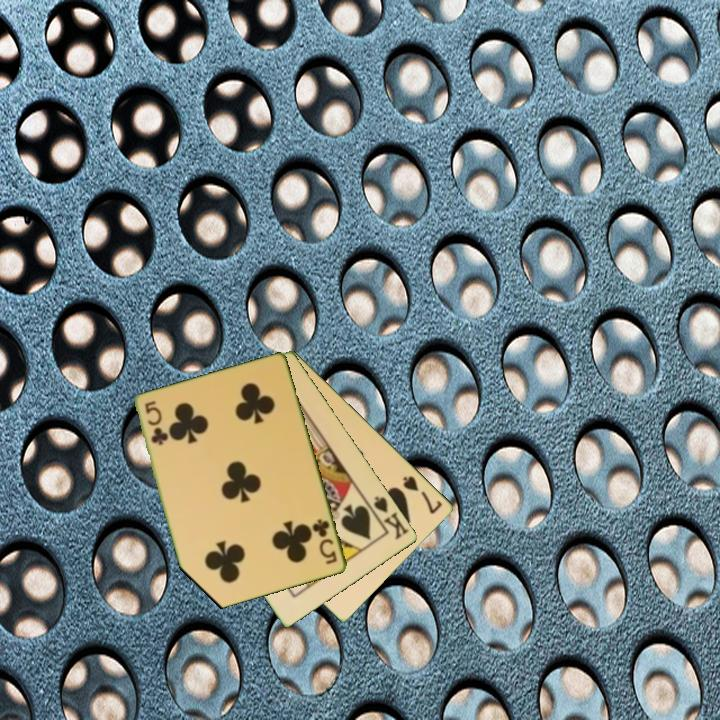5c: (309, 515, 340, 567), (142, 397, 169, 448)
7s: (399, 472, 445, 517)
Ks: (371, 493, 412, 543)
